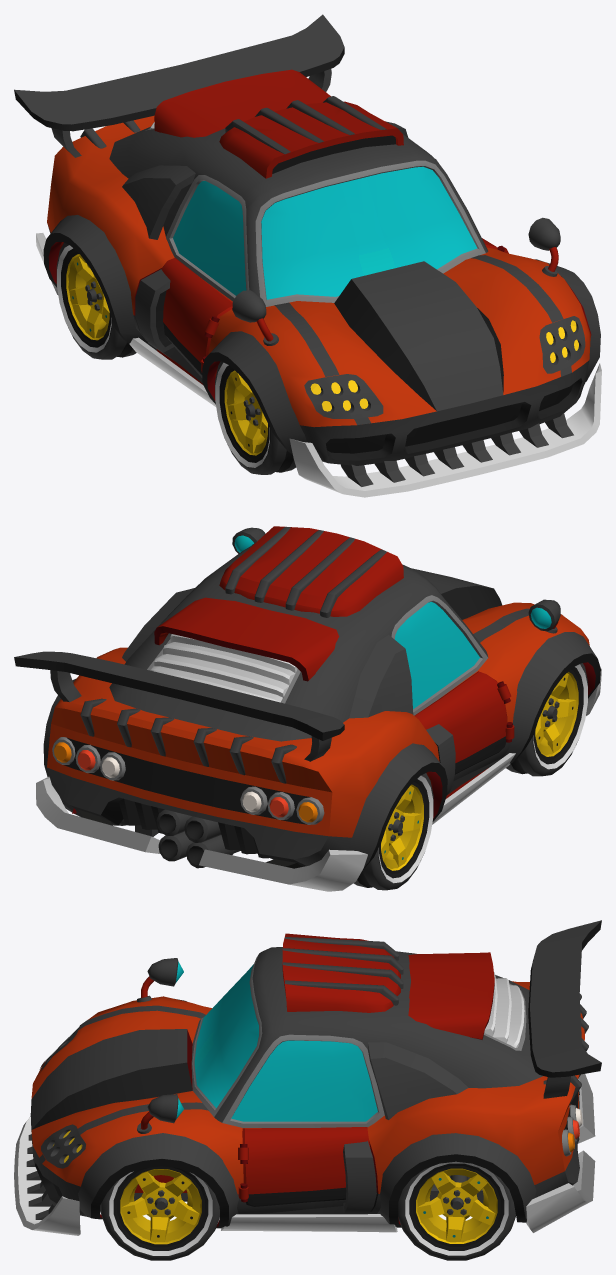
Rendered from VEH15-D.fbx.
3 views of the same model, one above another, from view 1: azimuth 30°, elevation 25°; view 2: azimuth 150°, elevation 25°; view 3: azimuth 270°, elevation 25° (orthographic). The views are drawn at different scales.
Visible parts, largest first — view 1: VEH15_D, V15D_Wheel_FR, V15D_Wheel_BR; view 2: VEH15_D, V15D_Wheel_BR, V15D_Wheel_FR; view 3: VEH15_D, V15D_Wheel_BL, V15D_Wheel_FL.
Part boxes in pixels (x1,y1,x2,y2): VEH15_D: (14,14,601,497); V15D_Wheel_FR: (215,361,296,474); V15D_Wheel_BR: (56,242,136,359); VEH15_D: (14,526,601,891); V15D_Wheel_BR: (353,773,433,890); V15D_Wheel_FR: (506,663,587,776); VEH15_D: (14,920,601,1235); V15D_Wheel_BL: (398,1161,515,1260); V15D_Wheel_FL: (100,1166,219,1260).
Size of the model in its own units: 278 by 188 by 425.
1 material, 1 textured.
